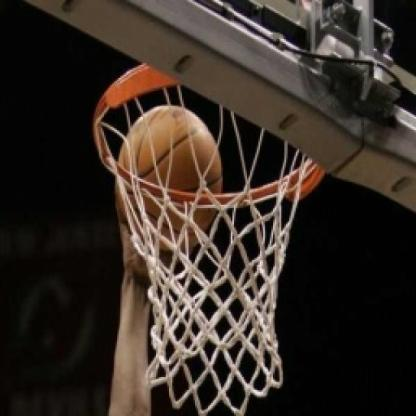basketball: (116, 99, 229, 261)
